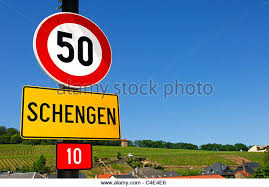Speed_limit_50km: (33, 12, 113, 88)
